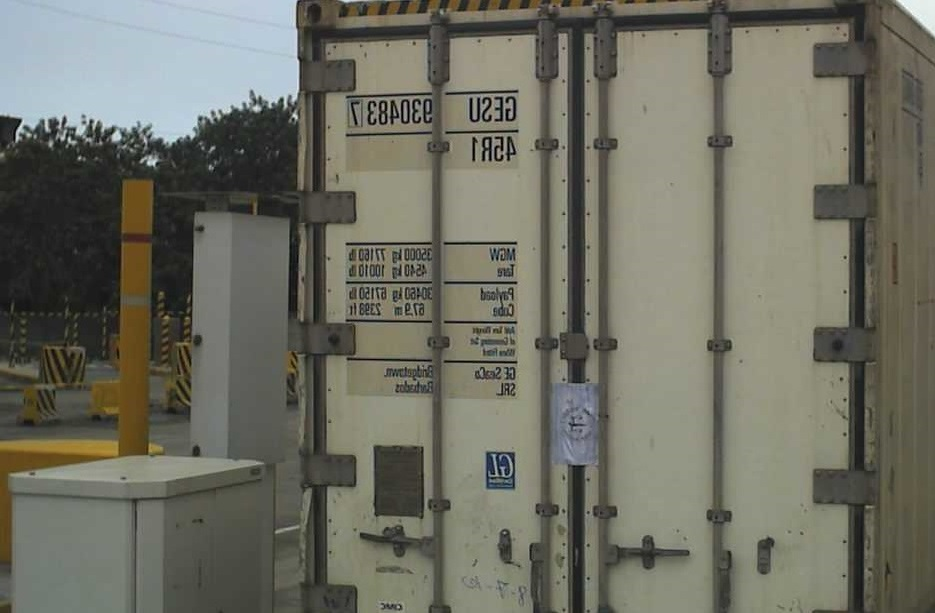container_door: (295, 3, 876, 612)
